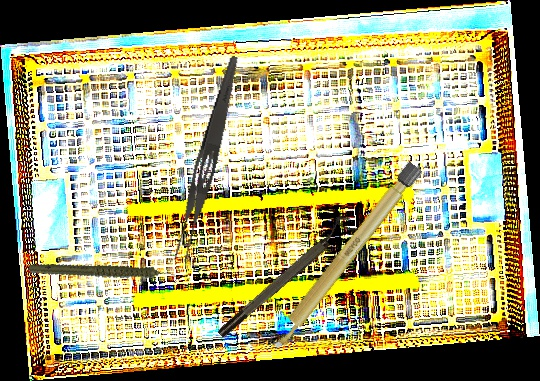Dressing Forceps: (169, 52, 243, 265)
Fixation Ring: (210, 211, 359, 341)
Handpiece: (27, 233, 181, 314)
Scalpel Handle: (267, 160, 423, 354)
